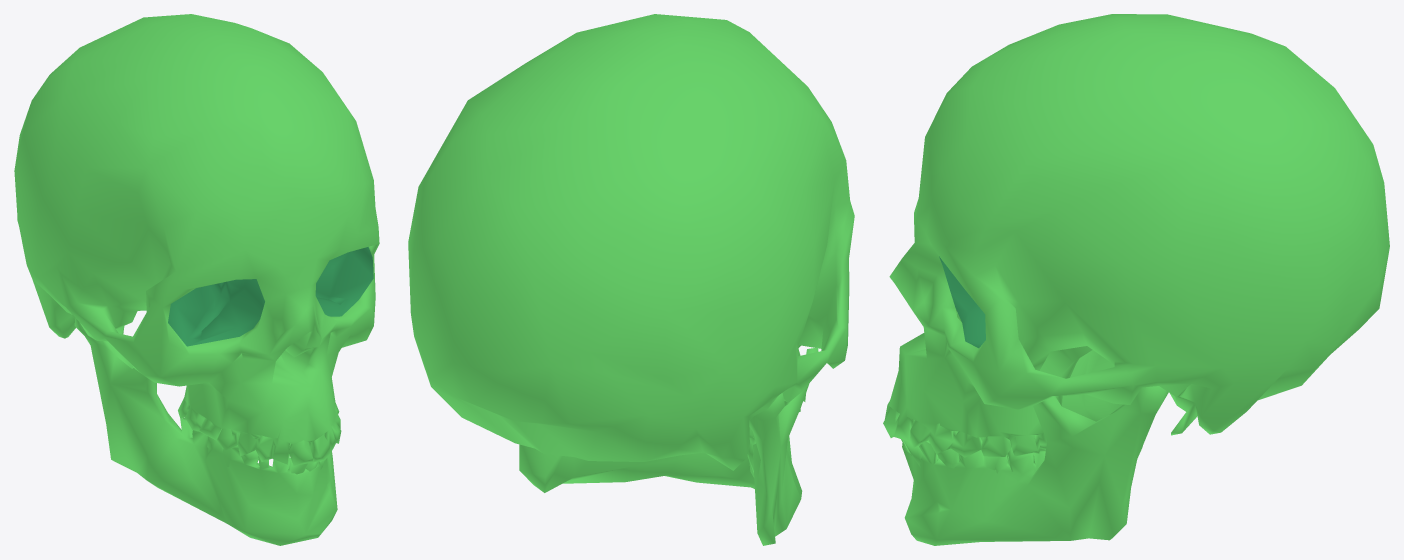
Rendered from skull_02.glb.
3 renders of one model, left to right at view 1: azimuth 30°, elevation 25°; view 2: azimuth 150°, elevation 25°; view 3: azimuth 270°, elevation 25°, orthographic. The views are drawn at different scales.
Parts seen in each view (by area): view 1: skull.002, skull.001, sockets; view 2: skull.002, skull.001; view 3: skull.002, skull.001, sockets.
Boxes of the visible parts, x1,y1,x2,y2 form: skull.002: (14, 14, 379, 465); skull.001: (74, 318, 337, 545); sockets: (168, 247, 373, 346); skull.002: (408, 14, 854, 470); skull.001: (519, 347, 818, 545); skull.002: (883, 14, 1389, 457); skull.001: (901, 350, 1168, 545); sockets: (939, 256, 985, 348).
Size of the model in its own units: 0.8328 by 1.23 by 1.12.
